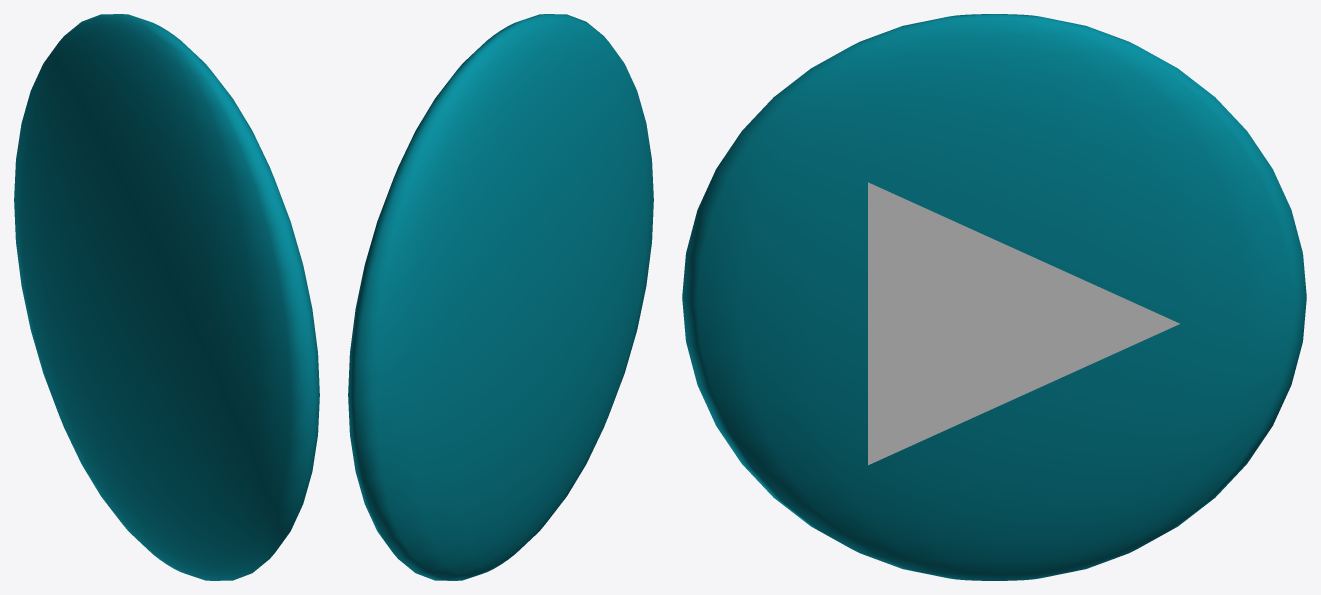
Rendered from play.fbx.
3 views of the same model, side by side, from view 1: azimuth 30°, elevation 25°; view 2: azimuth 150°, elevation 25°; view 3: azimuth 270°, elevation 25° (orthographic). The views are drawn at different scales.
Parts seen in each view (by area): view 1: pSphere2; view 2: pSphere2; view 3: pSphere2, pCube1.
Boxes of the visible parts, left/top/right/bottom form: pSphere2: left=14, top=14, right=319, bottom=580; pSphere2: left=348, top=14, right=653, bottom=580; pSphere2: left=682, top=14, right=1306, bottom=580; pCube1: left=868, top=182, right=1179, bottom=465.
Size of the model in its own units: 0.3981 by 2 by 2.
